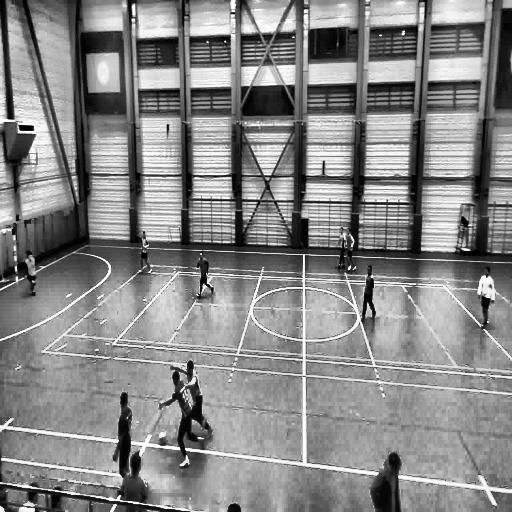ball: (158, 428, 168, 447)
player: (158, 372, 206, 470), (170, 359, 215, 442), (112, 393, 132, 488), (477, 265, 495, 330), (358, 264, 374, 320), (197, 252, 213, 298), (139, 229, 154, 271), (336, 226, 347, 272), (26, 254, 38, 296), (344, 228, 355, 272)
